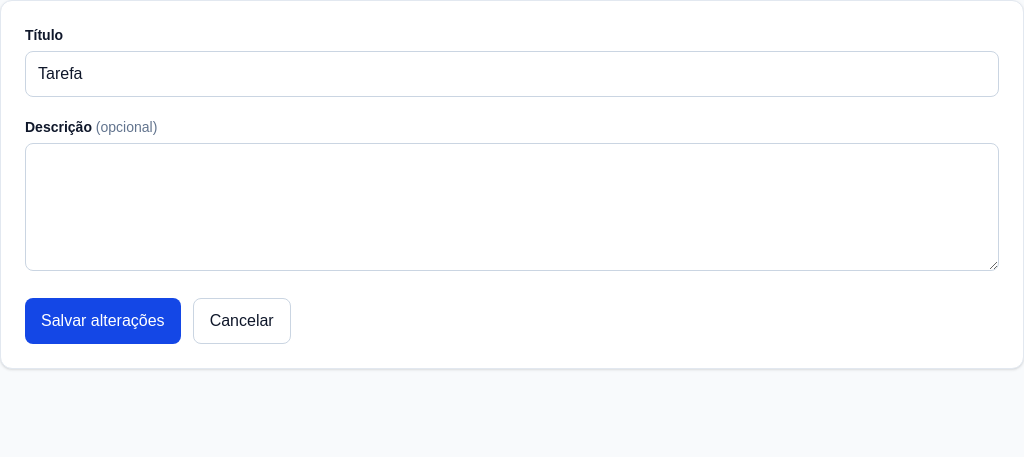
Test: TaskForm › shows errors returned by the backend when updating
Click the button "Salvar alterações" at (103, 321), box [25, 298, 181, 344]
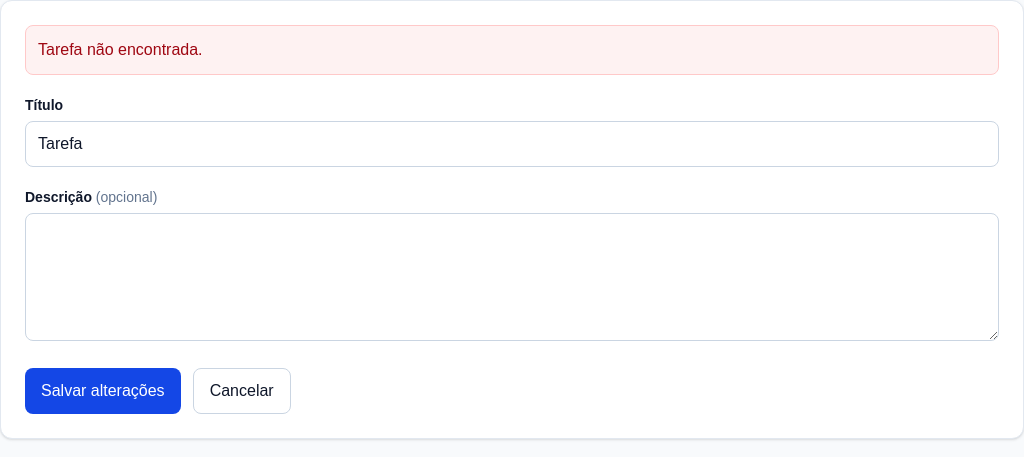
Expected: the message reads "Tarefa não encontrada.", [38, 41, 203, 58]
